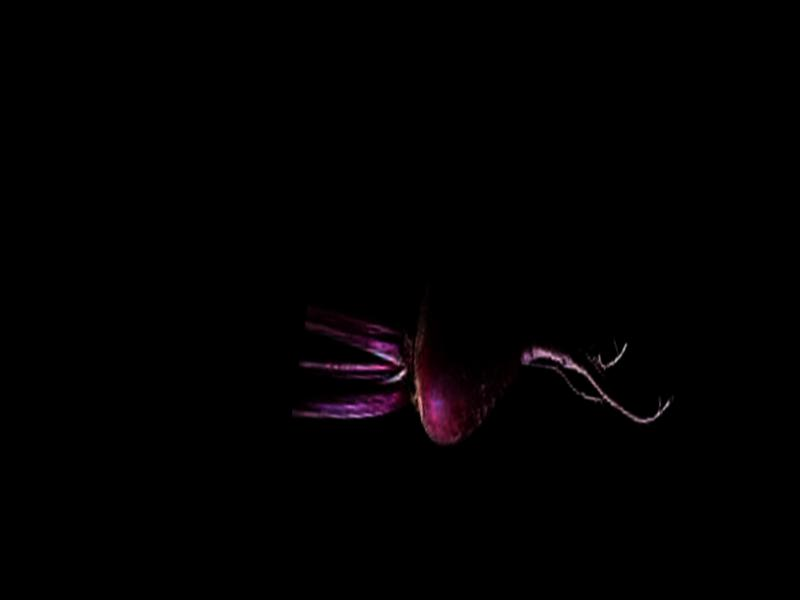Beet: (290, 233, 690, 489)
